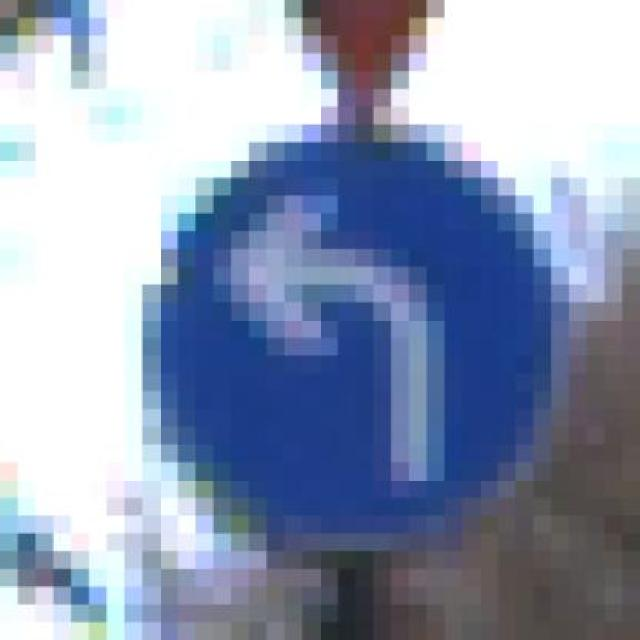Turn left ahead: (124, 124, 587, 551)
